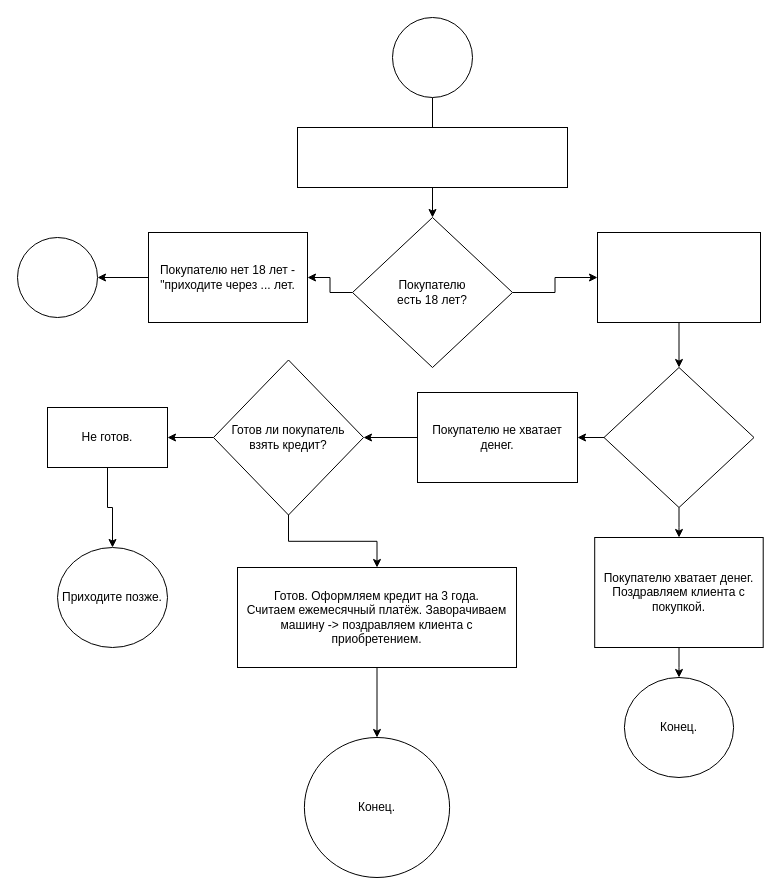
This 781x895 diagram has some shape labels left out. Here are the shapes that lost their labels. From the top down, the centre of each, then its label:
(432,57): Начало
(432,157): Инициализируем два объекта: "машина" и "клиент".
(57,277): Конец
(678,277): Покупателю 18 -> он может купить машину.
(678,437): Хватает ли покупателю денег?
